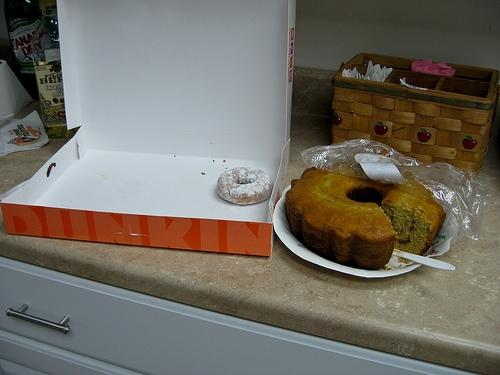apple: (462, 136, 478, 150), (417, 128, 432, 142), (374, 122, 388, 136), (333, 113, 342, 126)
